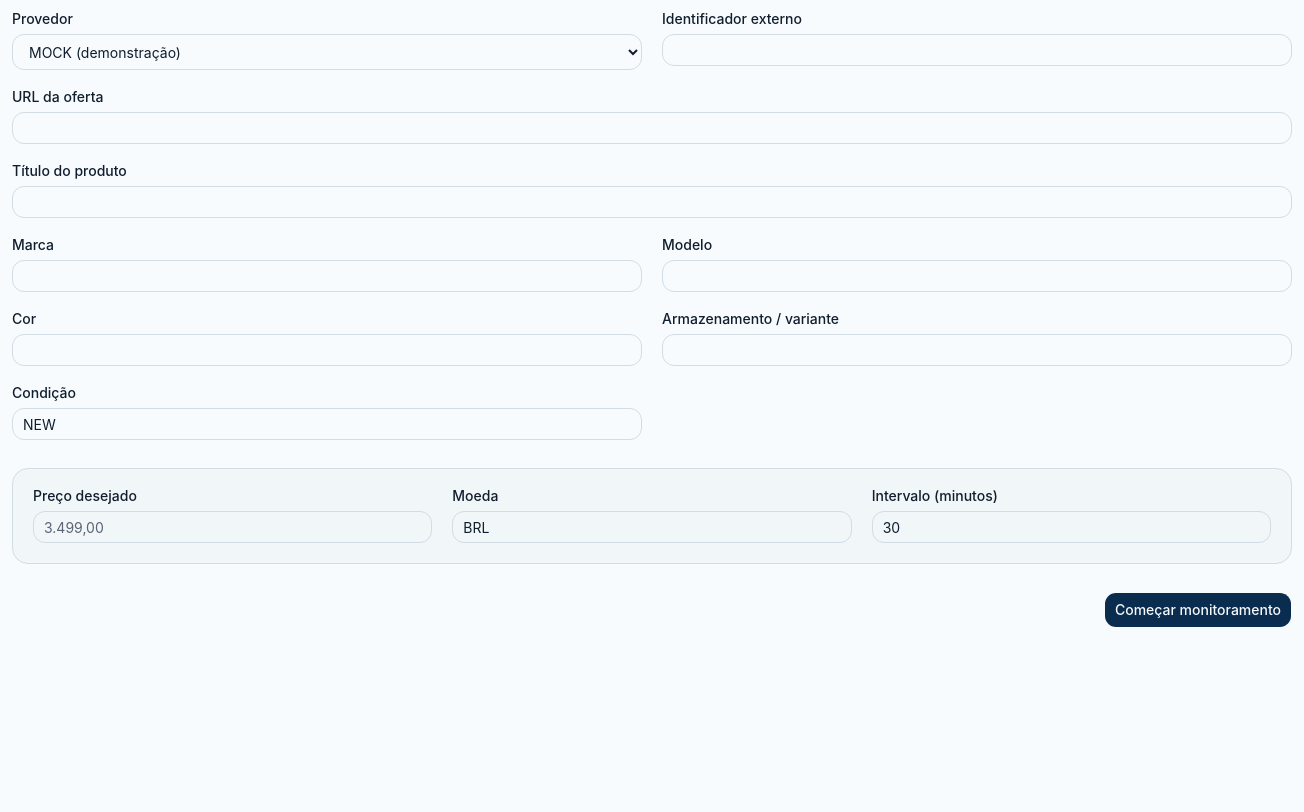
Test: mostra erro para preço inválido
Type "0" into the field labelled "Preço desejado". click: x=233, y=527
box: [33,511,432,543]
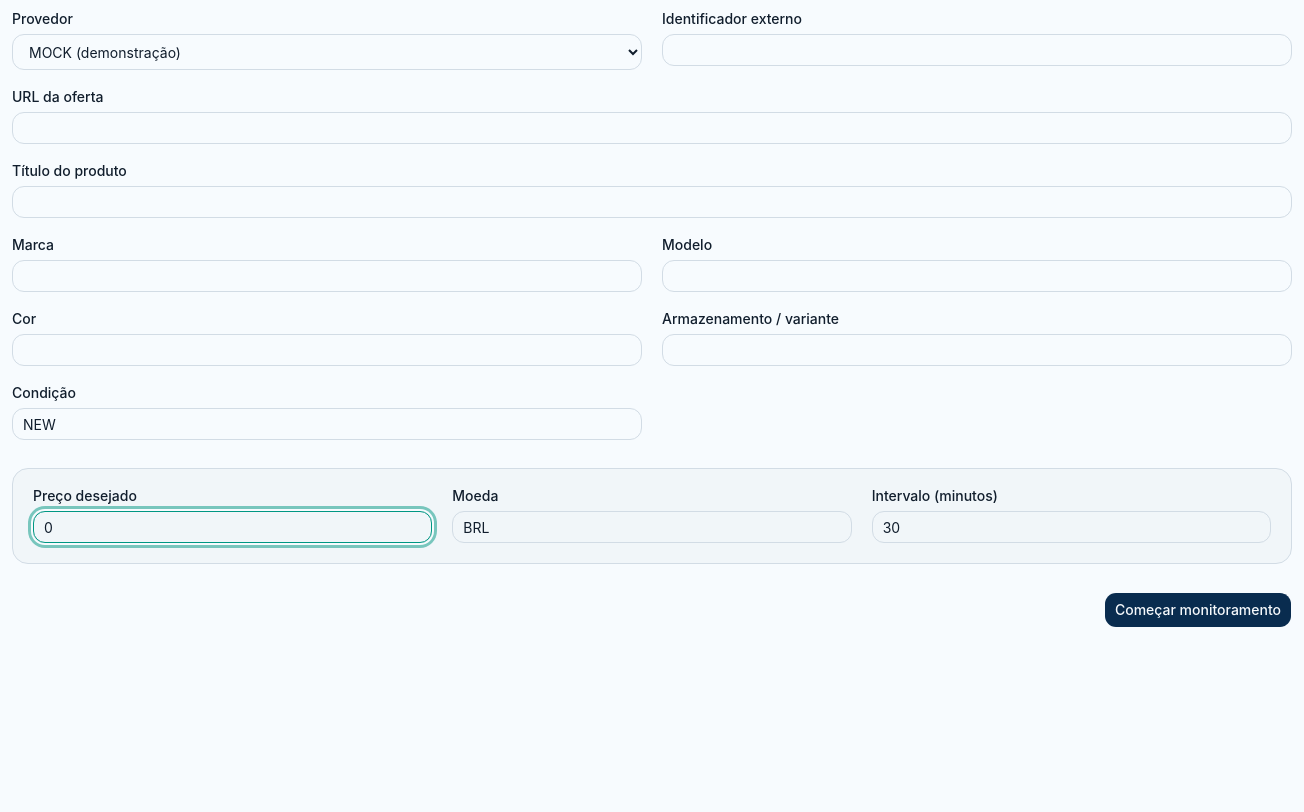
Click the button "Começar monitoramento". click: x=1198, y=610
box: [1104,592,1292,628]
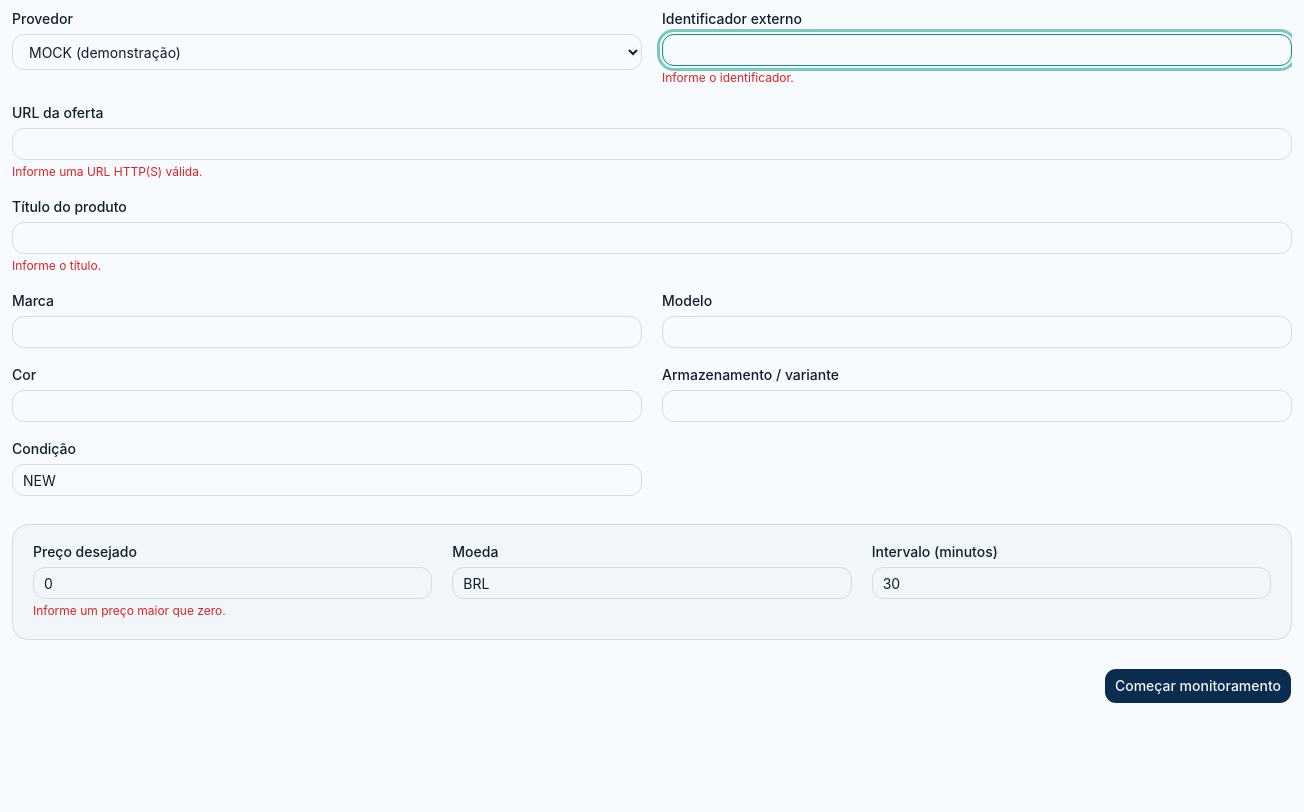
expect the text "Informe um preço maior que zero." is shown: met, box [33,603,226,618]
